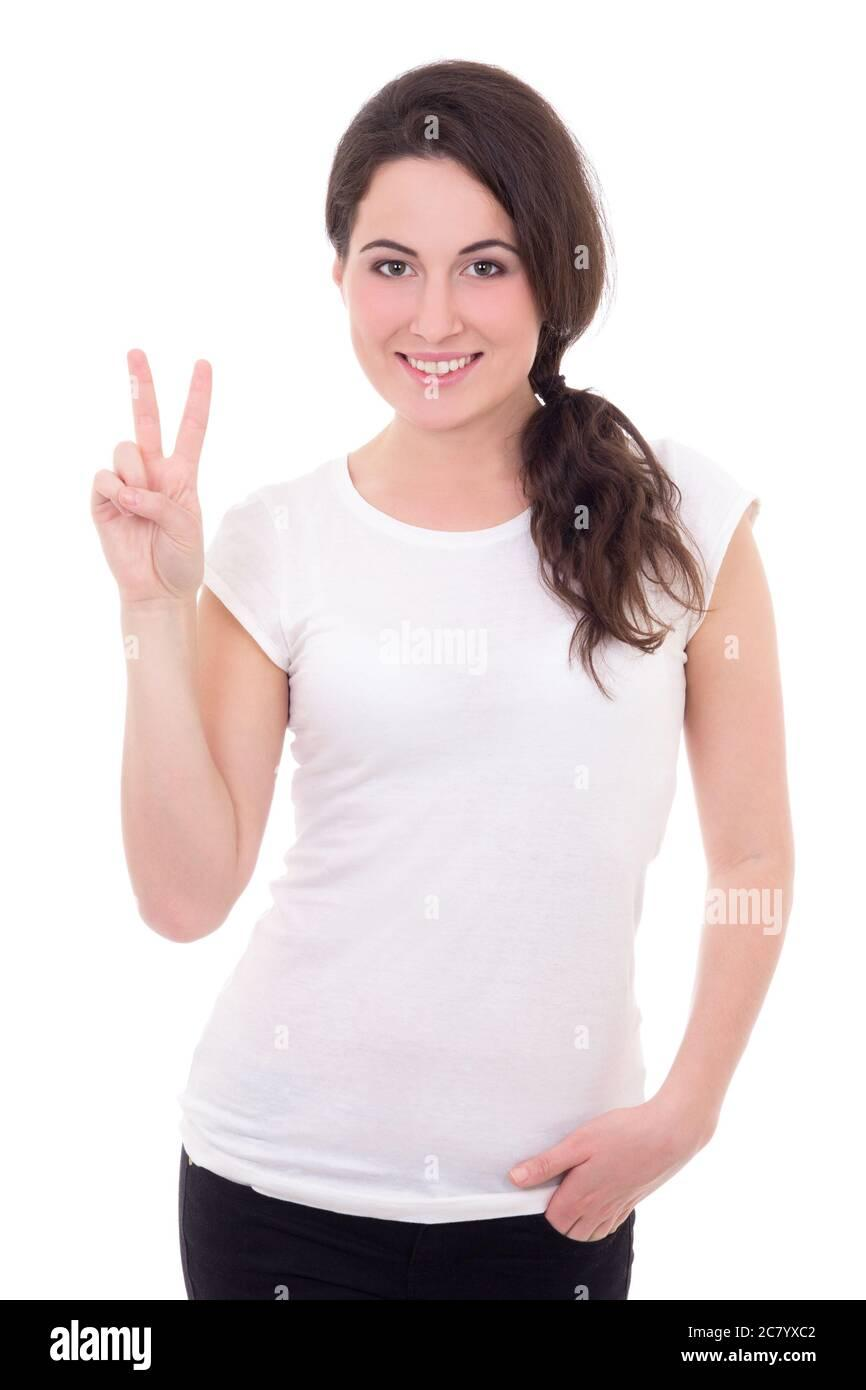peace_sign: (73, 336, 231, 636)
